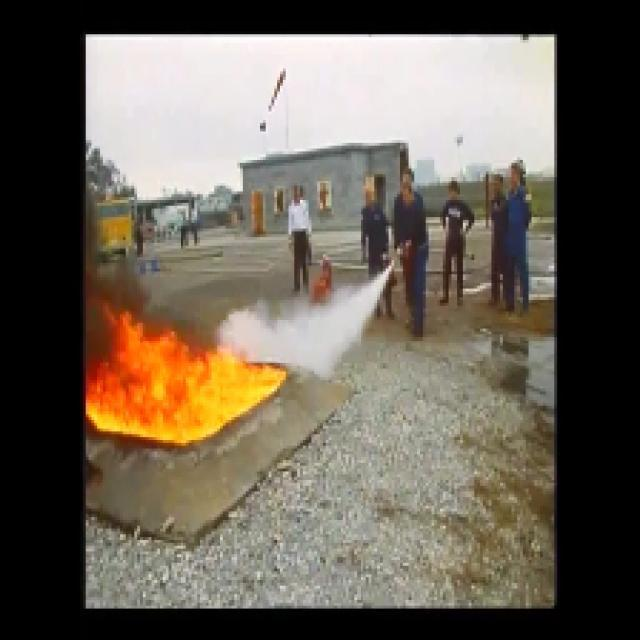Fire: (94, 324, 266, 440)
